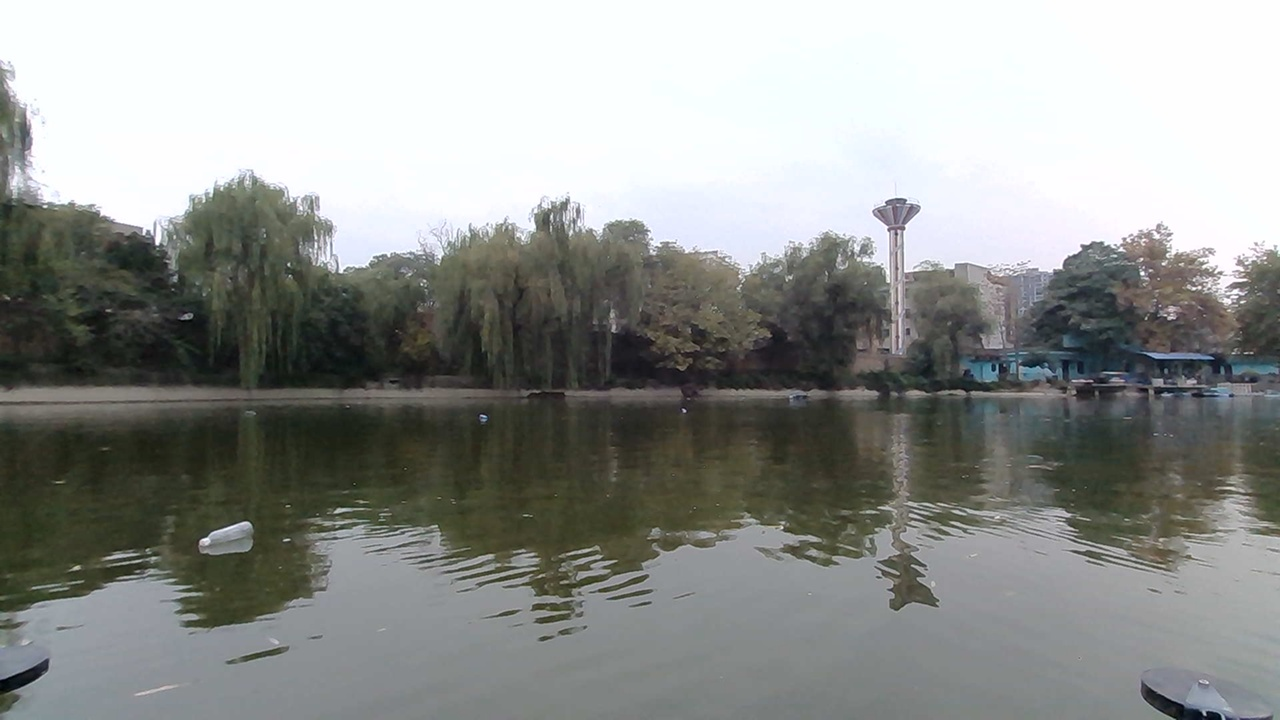bottle: (200, 524, 259, 553), (462, 407, 493, 425)
